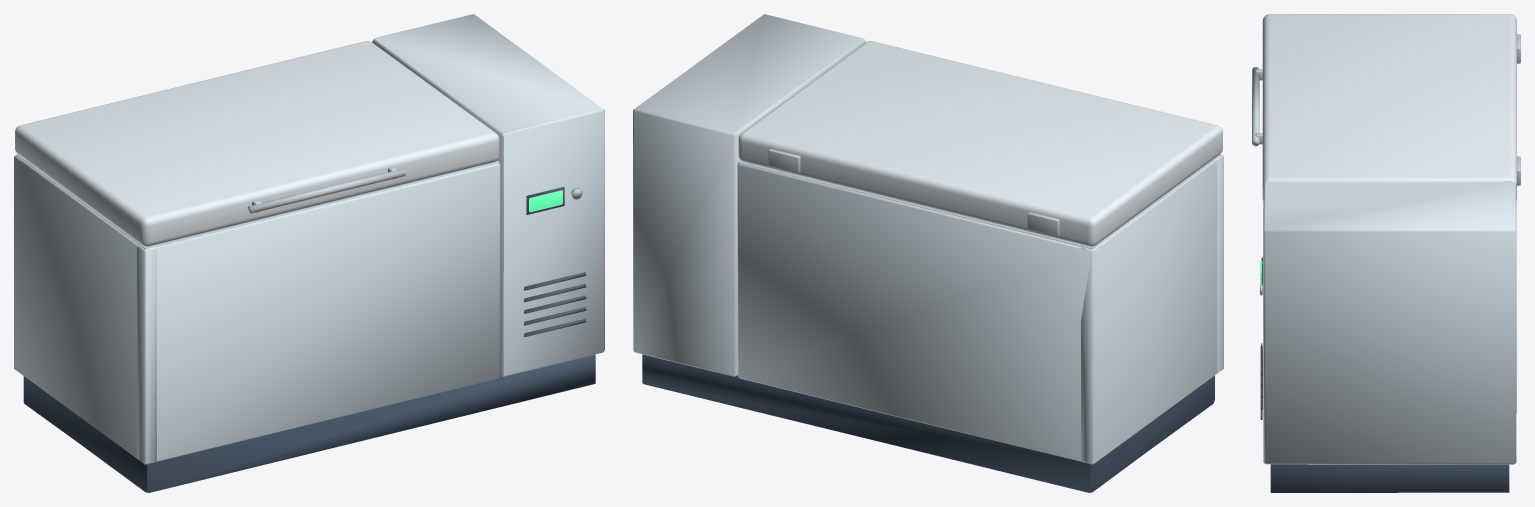
The model's file is freezer.glb.
The picture shows the model from 3 angles, left to right: view 1: azimuth 30°, elevation 25°; view 2: azimuth 150°, elevation 25°; view 3: azimuth 270°, elevation 25°; orthographic projection. The views are drawn at different scales.
Visible parts, largest first — view 1: FreezerBody, FreezerLid; view 2: FreezerBody, FreezerLid; view 3: FreezerBody, FreezerLid.
Boxes of the visible parts, left/top/right/bottom form: FreezerBody: left=14, top=14, right=604, bottom=492; FreezerLid: left=15, top=41, right=499, bottom=246; FreezerBody: left=633, top=14, right=1223, bottom=492; FreezerLid: left=738, top=41, right=1222, bottom=246; FreezerBody: left=1260, top=181, right=1516, bottom=492; FreezerLid: left=1252, top=14, right=1520, bottom=200.
Bounding box in the file's own units: 1.5 × 0.858 × 0.782.
